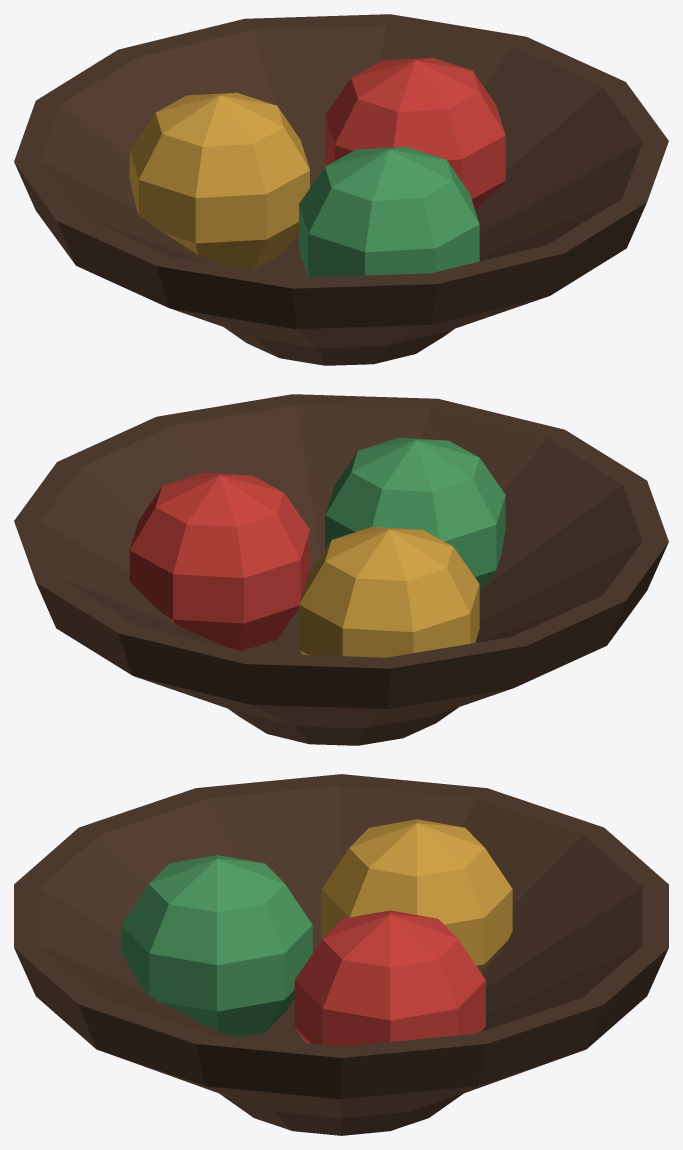
File: FN_Bowl_Fruit.obj
The picture shows the model from 3 angles, top to bottom: view 1: azimuth 30°, elevation 25°; view 2: azimuth 150°, elevation 25°; view 3: azimuth 270°, elevation 25°; orthographic projection. The views are drawn at different scales.
Visible parts, largest first — view 1: FN_Bowl_Fruit; view 2: FN_Bowl_Fruit; view 3: FN_Bowl_Fruit.
Part boxes in pixels (x1,y1,x2,y2): FN_Bowl_Fruit: [14, 14, 668, 365]; FN_Bowl_Fruit: [14, 394, 668, 745]; FN_Bowl_Fruit: [14, 774, 668, 1135].
Size of the model in its own units: 0.3 by 0.11 by 0.2925.
1 material, 1 textured.
